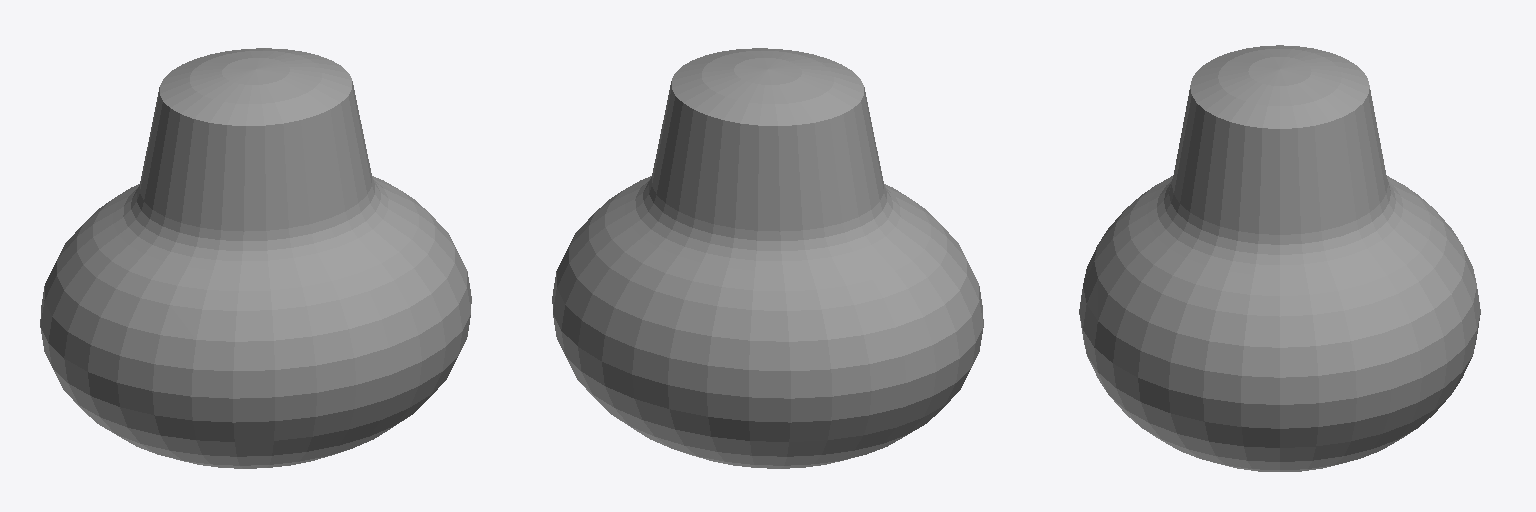
File: light_bulb_2.obj
The picture shows the model from 3 angles: view 1: azimuth 30°, elevation 25°; view 2: azimuth 150°, elevation 25°; view 3: azimuth 270°, elevation 25°; orthographic projection.
Parts seen in each view (by area): view 1: light_bulb_1.001_Sphere003.001; view 2: light_bulb_1.001_Sphere003.001; view 3: light_bulb_1.001_Sphere003.001.
Part boxes in pixels (bbox=[...]): light_bulb_1.001_Sphere003.001: bbox=[40, 48, 471, 468]; light_bulb_1.001_Sphere003.001: bbox=[552, 48, 983, 468]; light_bulb_1.001_Sphere003.001: bbox=[1079, 45, 1480, 471].
Size of the model in its own units: 0.1583 by 0.1472 by 0.1437.